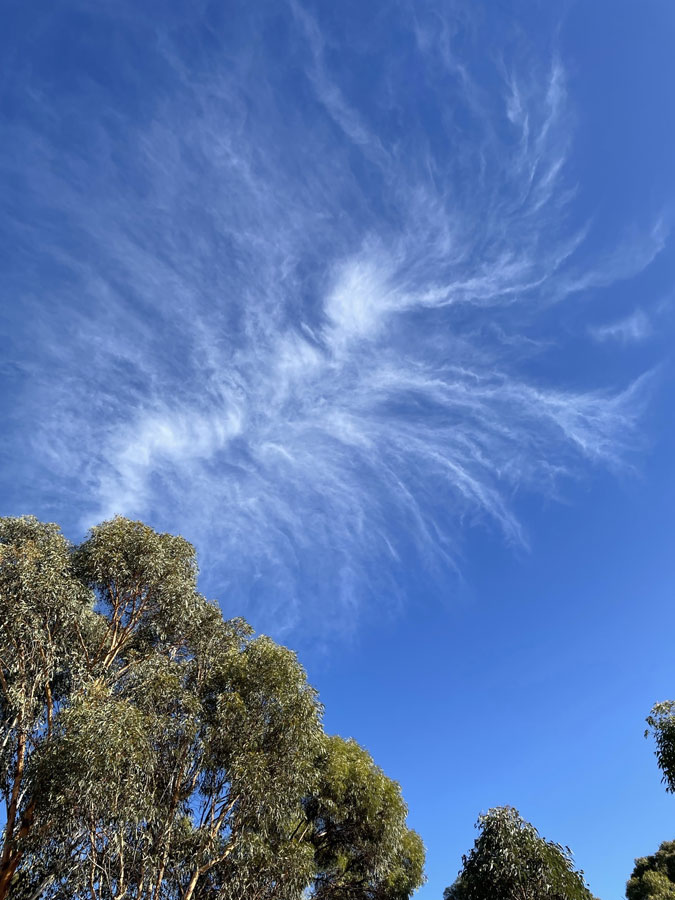Cirrus: (21, 34, 674, 628)
